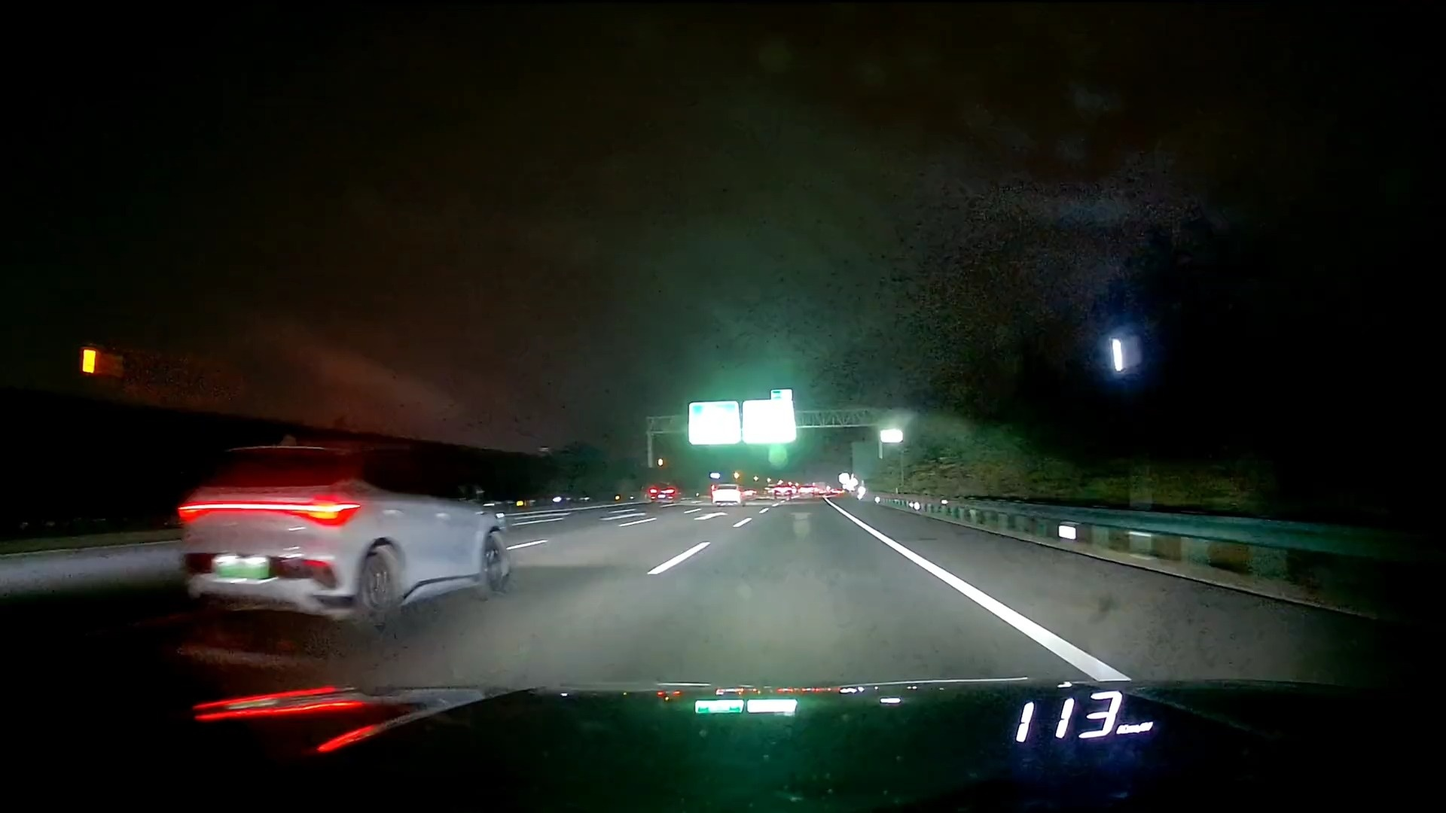lane: (814, 488, 1121, 680), (649, 542, 721, 574), (603, 509, 658, 531), (514, 516, 571, 526), (687, 504, 723, 519), (507, 539, 547, 549), (736, 508, 752, 531)
